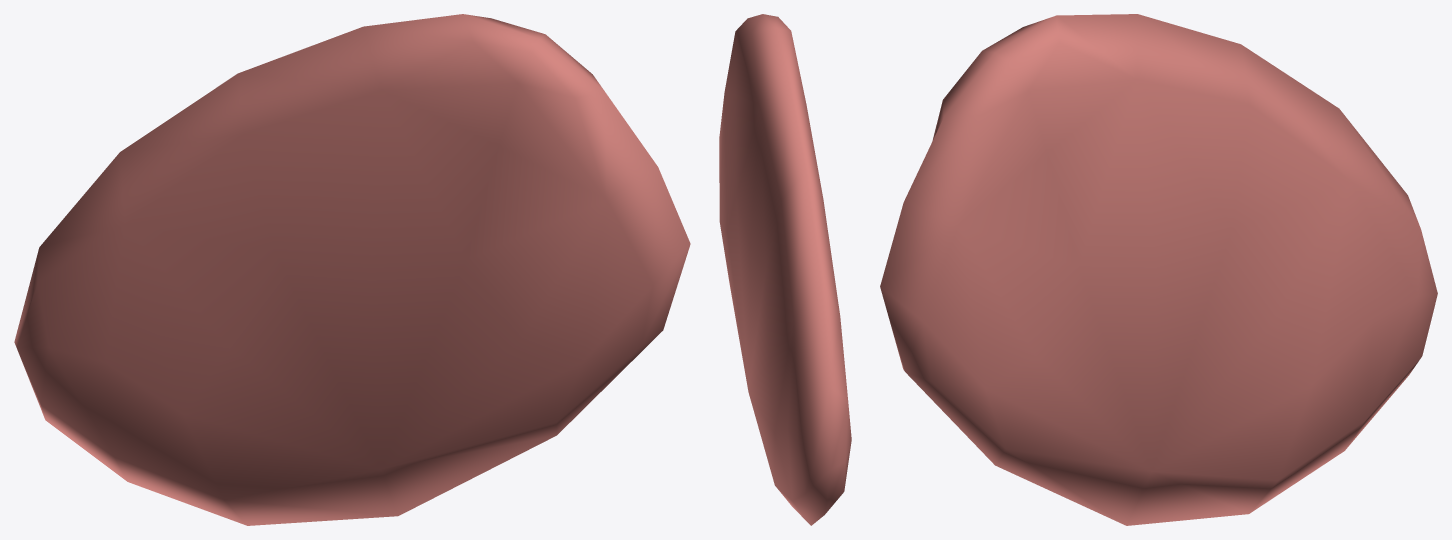
3 renders of one model, left to right at view 1: azimuth 30°, elevation 25°; view 2: azimuth 150°, elevation 25°; view 3: azimuth 270°, elevation 25°, orthographic. The views are drawn at different scales.
Visible parts, largest first — view 1: ZA_a618b7014be03ec3; view 2: ZA_a618b7014be03ec3; view 3: ZA_a618b7014be03ec3.
Part boxes in pixels (bbox=[...]): ZA_a618b7014be03ec3: bbox=[14, 14, 690, 525]; ZA_a618b7014be03ec3: bbox=[719, 14, 851, 525]; ZA_a618b7014be03ec3: bbox=[880, 14, 1437, 525].
Size of the model in its own units: 0.00281 by 0.00359 by 0.00325.
